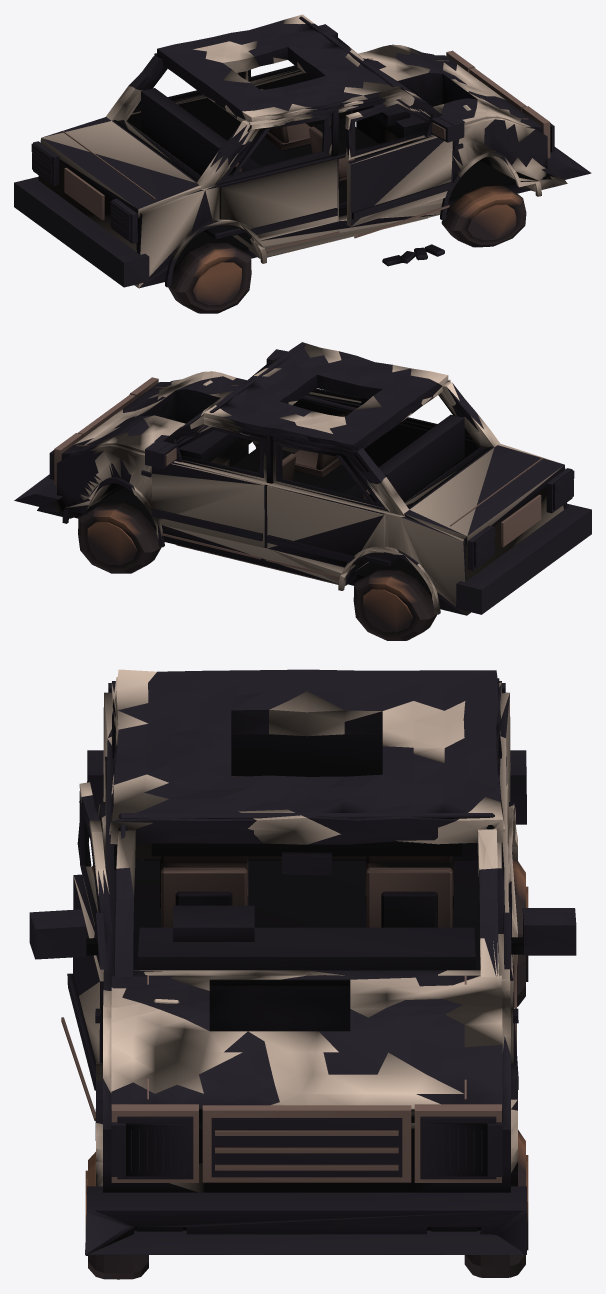
Rendered from model.burned.glb.
3 views of the same model, one above another, from view 1: azimuth 30°, elevation 25°; view 2: azimuth 150°, elevation 25°; view 3: azimuth 270°, elevation 25° (orthographic). The views are drawn at different scales.
Visible parts, largest first — view 1: body_pal_uiDark, body_pal_picketWhite, body_pal_sidewalk, wheelRL_pal_sidewalk, wheelFL_pal_sidewalk; view 2: body_pal_uiDark, body_pal_picketWhite, wheelRR_pal_sidewalk, wheelFR_pal_sidewalk, body_pal_sidewalk; view 3: body_pal_uiDark, body_pal_picketWhite, body_pal_sidewalk, wheelFR_pal_sidewalk, wheelFL_pal_sidewalk, wheelRR_pal_sidewalk.
Part boxes in pixels (left/top/right/bottom): body_pal_uiDark: left=14, top=16, right=591, bottom=288; body_pal_picketWhite: left=39, top=14, right=567, bottom=288; body_pal_sidewalk: left=62, top=50, right=550, bottom=252; wheelRL_pal_sidewalk: left=168, top=242, right=251, bottom=313; wheelFL_pal_sidewalk: left=441, top=185, right=526, bottom=247; body_pal_uiDark: left=14, top=342, right=591, bottom=615; body_pal_picketWhite: left=53, top=342, right=563, bottom=615; wheelRR_pal_sidewalk: left=353, top=569, right=437, bottom=640; wheelFR_pal_sidewalk: left=78, top=502, right=161, bottom=573; body_pal_sidewalk: left=54, top=377, right=542, bottom=579; body_pal_uiDark: left=29, top=669, right=576, bottom=1254; body_pal_picketWhite: left=73, top=669, right=517, bottom=1192; body_pal_sidewalk: left=61, top=776, right=516, bottom=1182; wheelFR_pal_sidewalk: left=464, top=1130, right=528, bottom=1277; wheelFL_pal_sidewalk: left=85, top=1152, right=148, bottom=1279; wheelRR_pal_sidewalk: left=474, top=859, right=528, bottom=1007.
Bounding box in the file's own units: 4.76 × 1.79 × 2.41.
